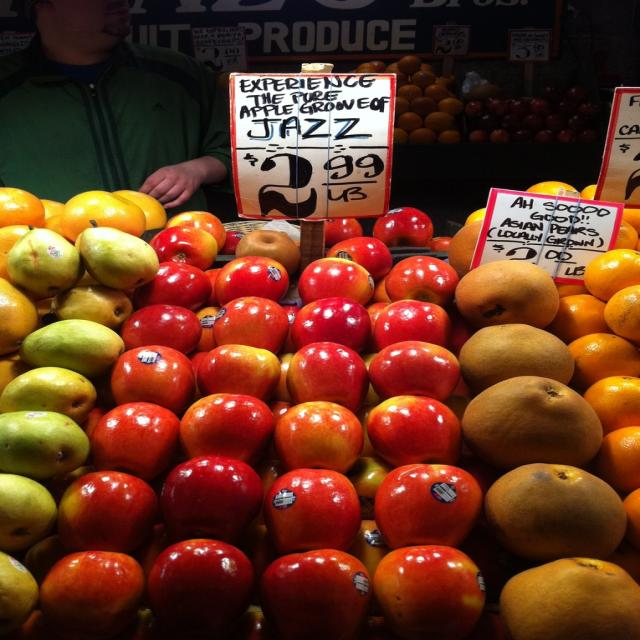Healty Apple: (59, 206, 639, 640), (30, 544, 148, 626), (465, 86, 611, 146)
